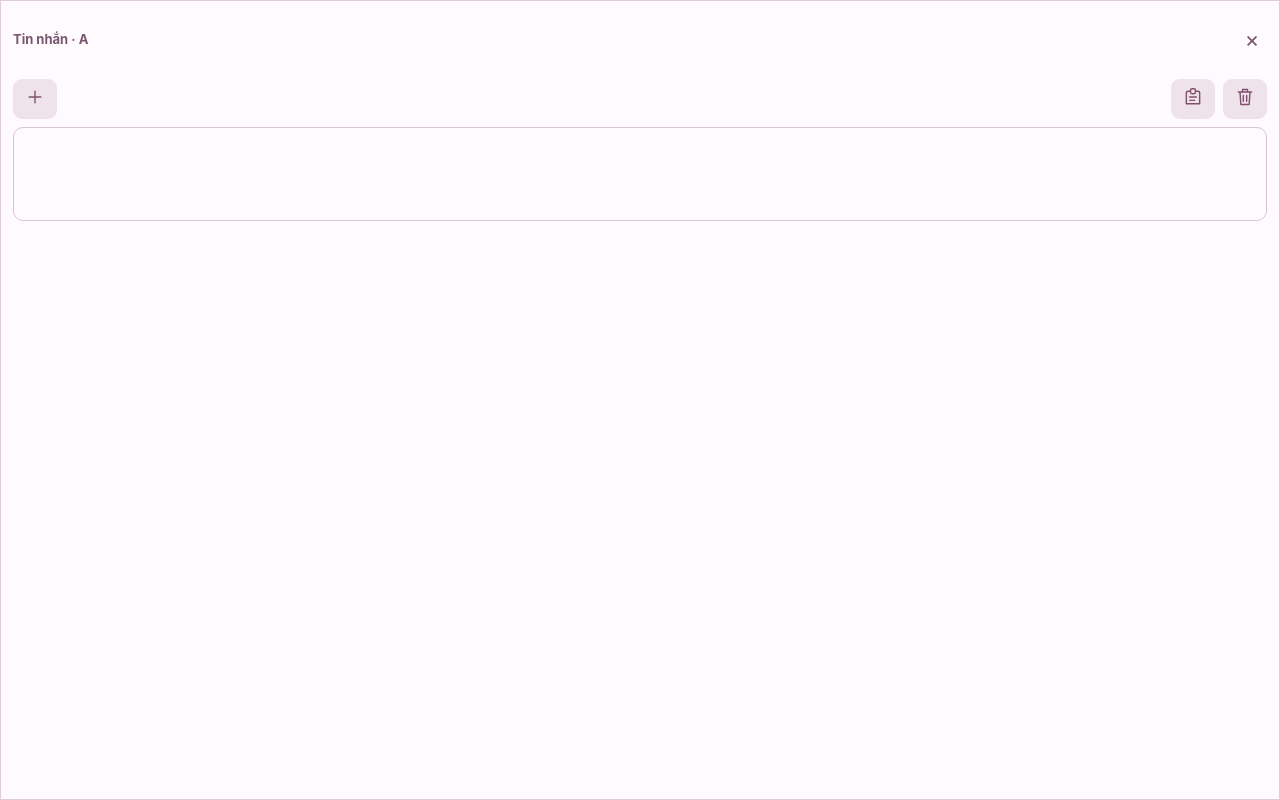
Test: keeps invalid text on close, removes its old rows, and marks only the unknown word without a warning line
Later steps or results of the test are not shown.
Type "lô b 11.5đ" into the text box named "Dữ liệu Tin nhắn".
click(640, 174); type("lô b 11.5đ")  # box [13,127,1267,221]
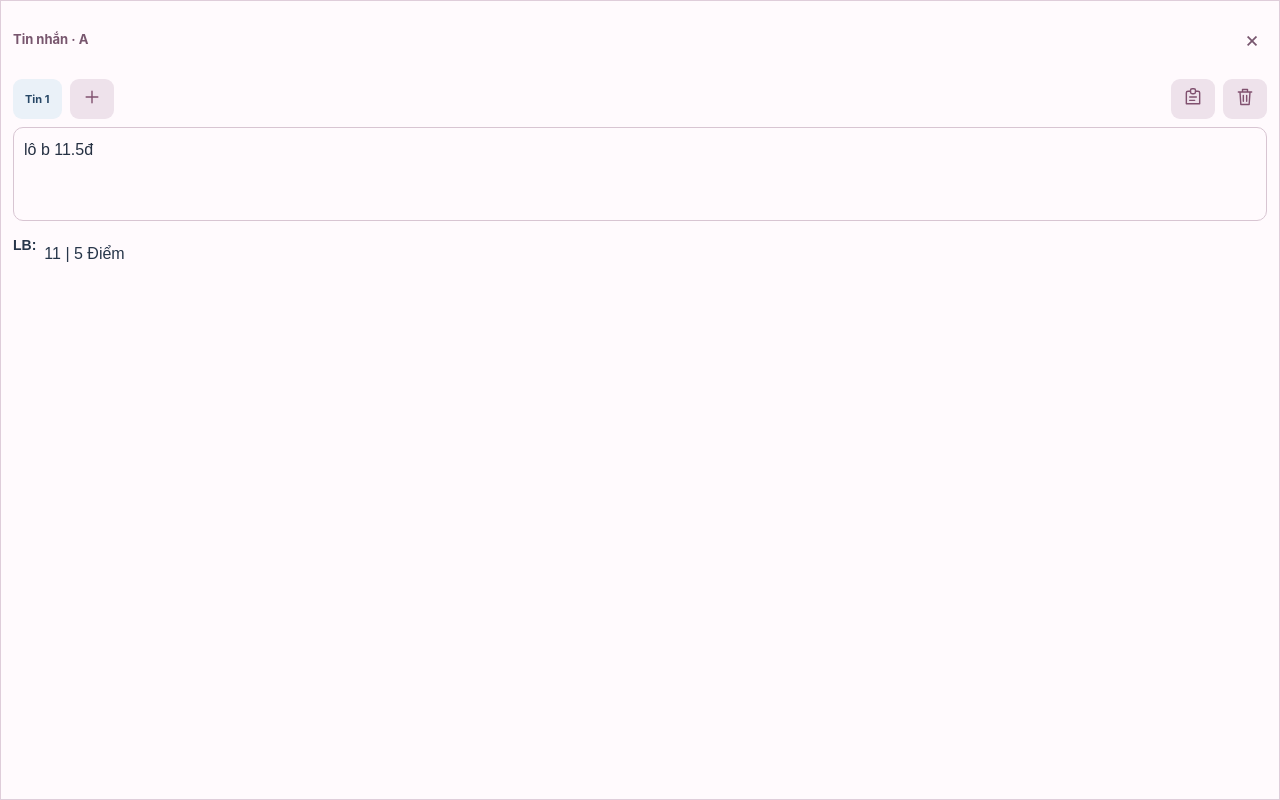
Replace the text in the text box named "Dữ liệu Tin nhắn" with "hdhdhh 11 22 33 44 55" at (640, 174), box [13,127,1267,221]
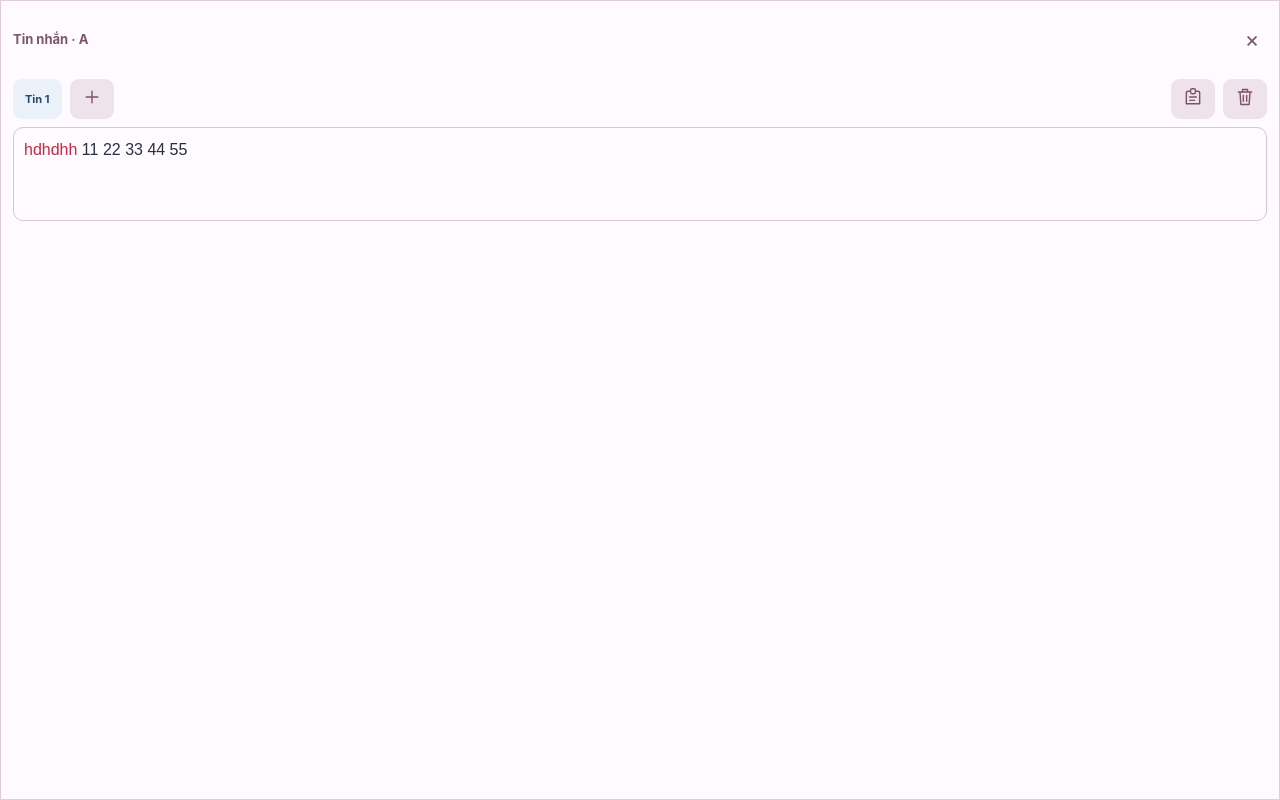
Expected: the text "hdhdhh" is shown, [24,141,77,158]
Click the button named "Đóng Tin nhắn".
click(1252, 39)  # box [1237,25,1267,53]
Expected: the element showing "hdhdhh 11 22 33 44 55" is shown, [24,141,187,158]
